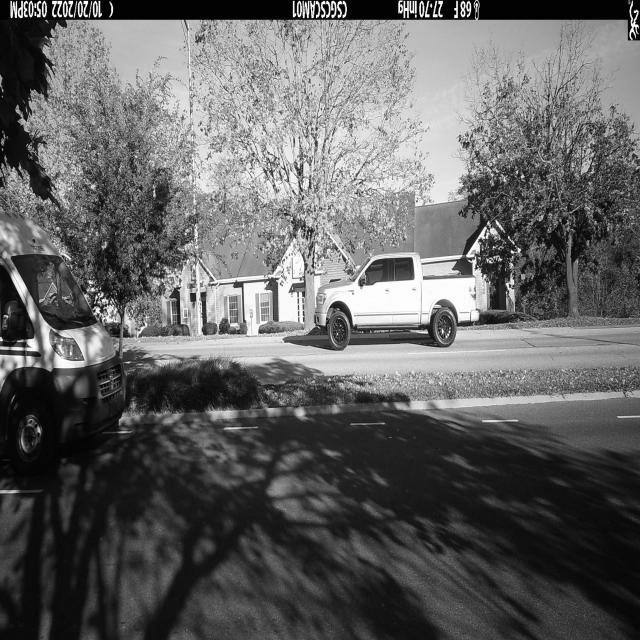Pickup: (314, 253, 479, 350)
